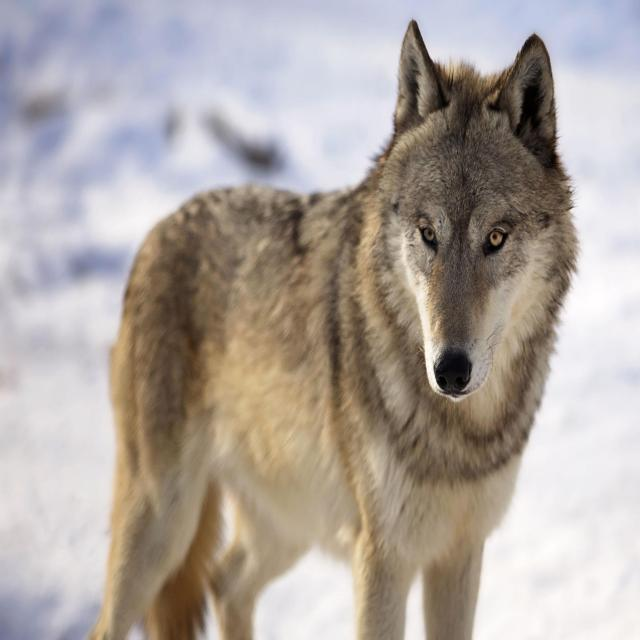Wolf: (88, 17, 580, 638)
